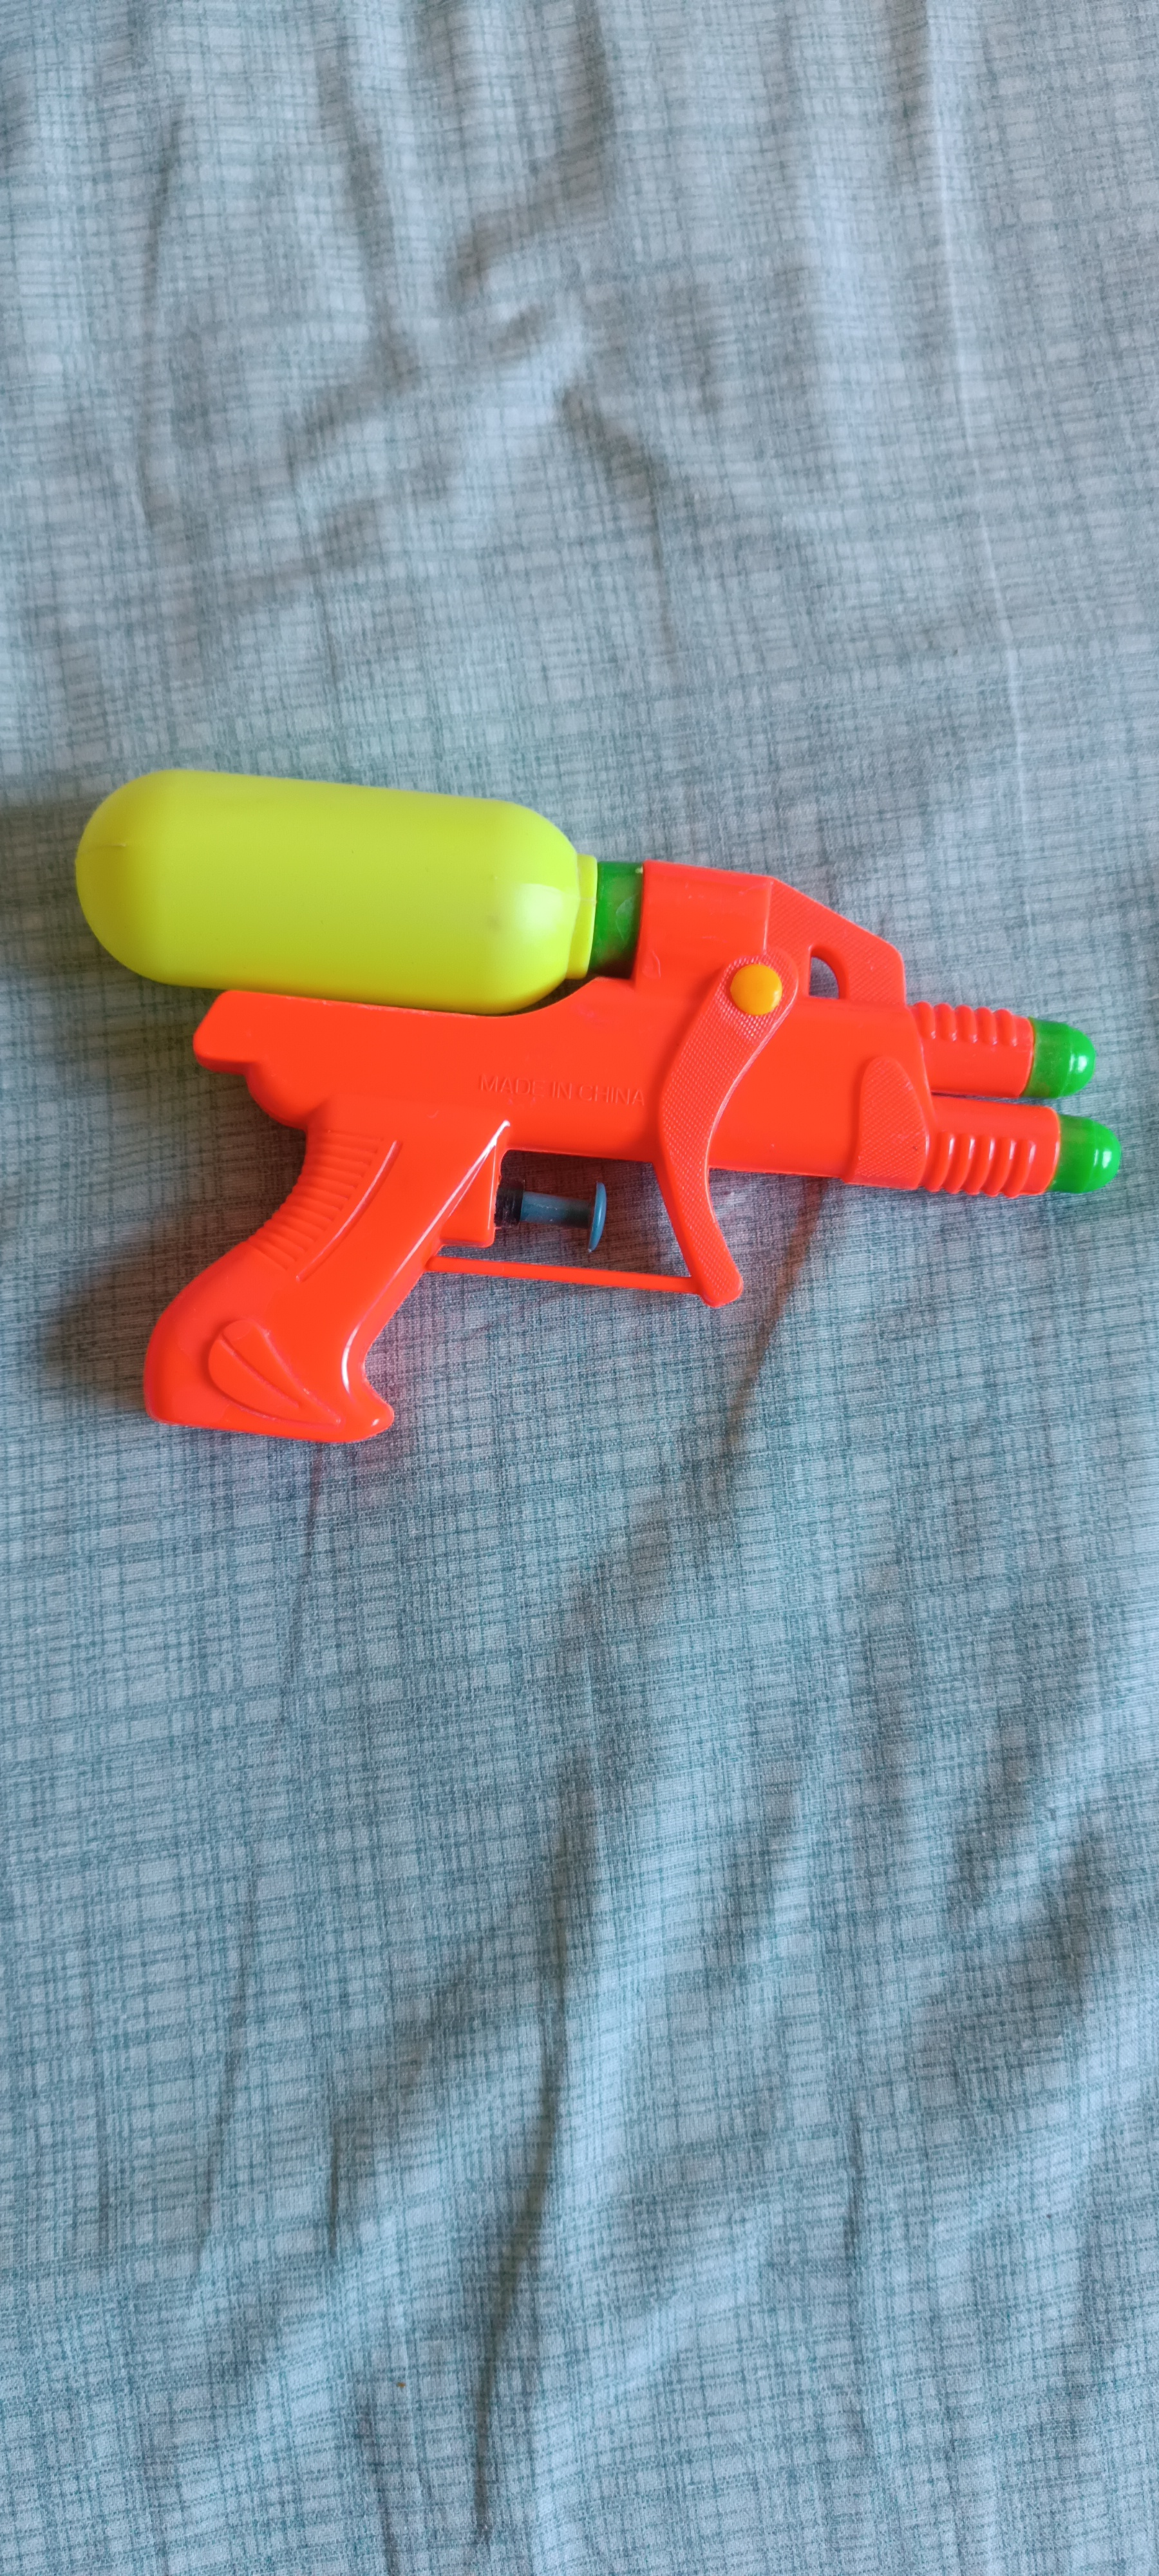Water Gun: (74, 767, 1121, 1444)
